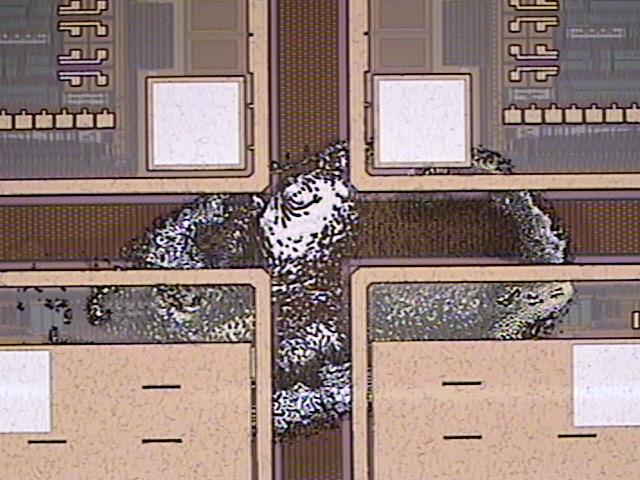BLOCK ETCH: (9, 126, 587, 451)
